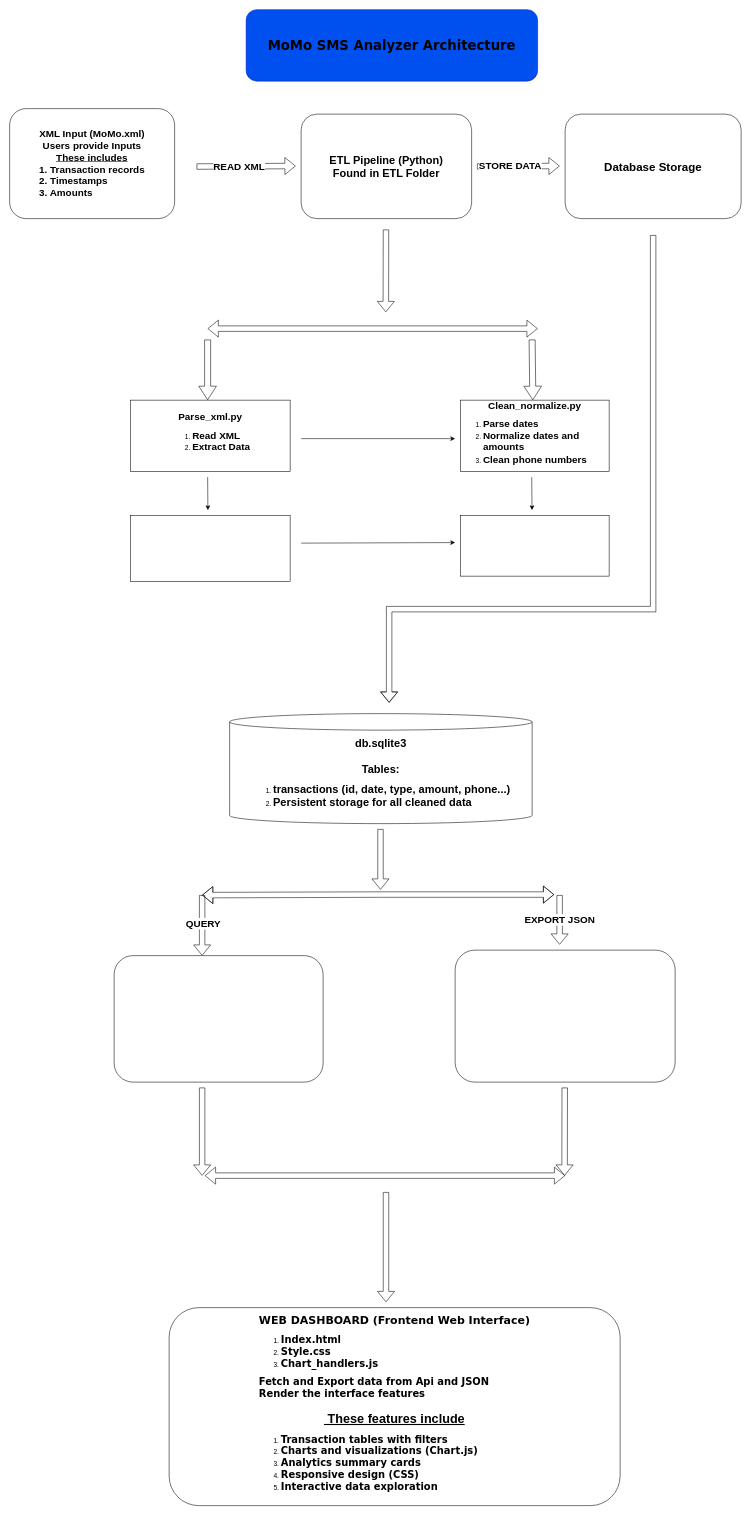
This 751x1515 diagram has some shape labels left out. Here are the shapes that lost their labels. From the top down, the centre of each, then its label:
At point (210, 548): "Categorize.py Label or classify types and transactions Apply rules".
At point (534, 545): "Load_db.py Create tables Insert data".
At point (218, 1018): "FastApi Backend (API) App.py db.py Schemas.py Endpoints /Transaction /Analytics".
At point (565, 1016): "Json Export export_json.sh".
